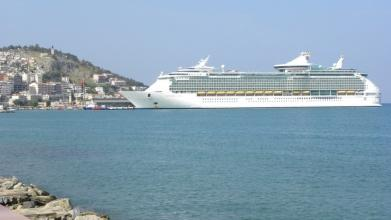youlun: (124, 48, 383, 111)
